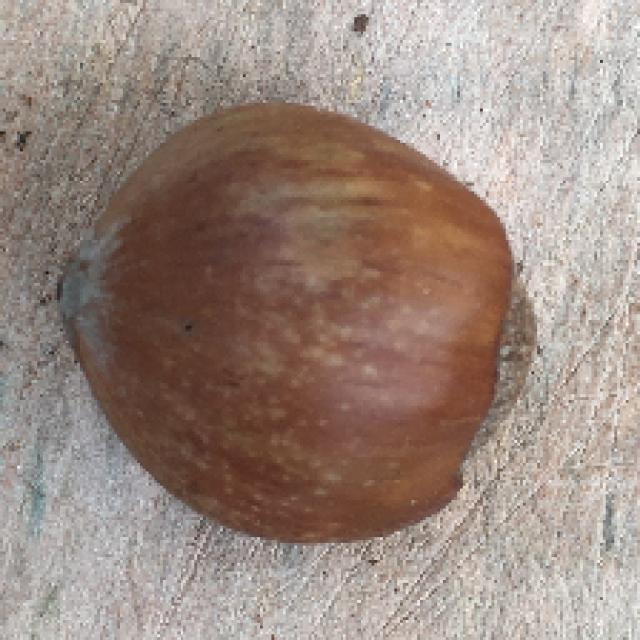damagedHazelnut: (44, 95, 548, 554)
